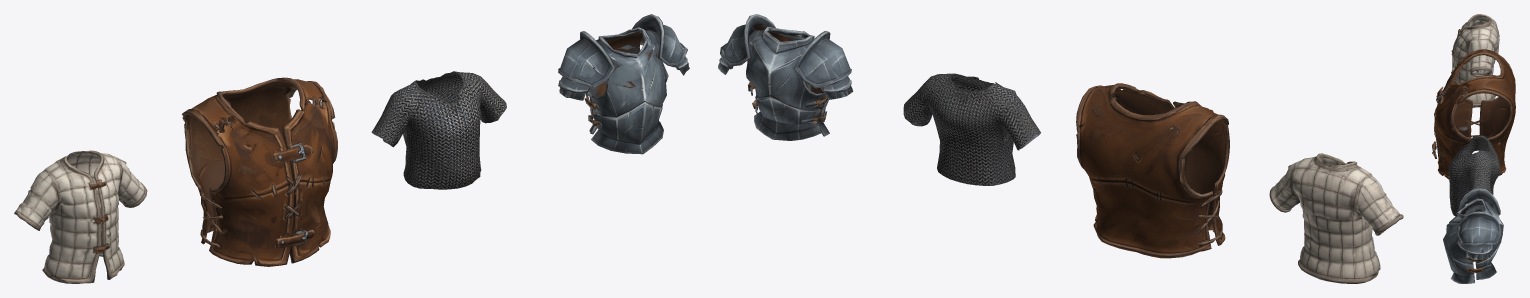
File: torsos.glb
3 views of the same model, side by side, from view 1: azimuth 30°, elevation 25°; view 2: azimuth 150°, elevation 25°; view 3: azimuth 270°, elevation 25° (orthographic). The views are drawn at different scales.
Bounding box in the file's own units: 0.9541 × 0.2065 × 0.1504.
1 material, 1 textured.
